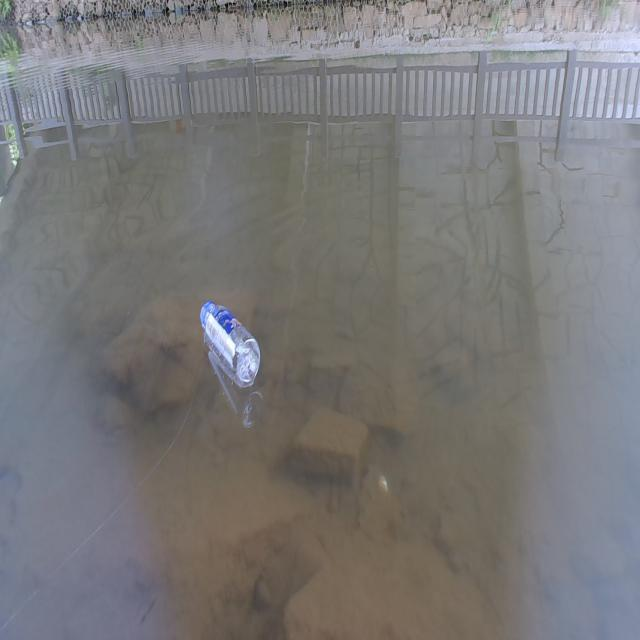garbage: (199, 299, 261, 389)
